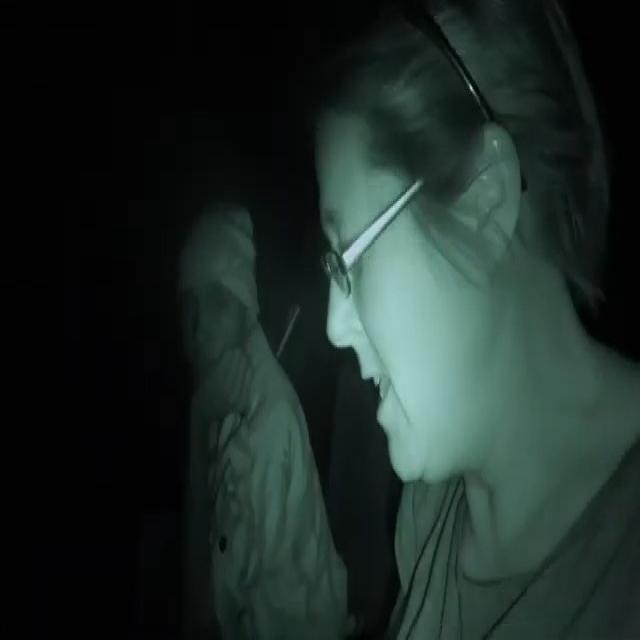human: (298, 1, 640, 640), (149, 117, 302, 640)
